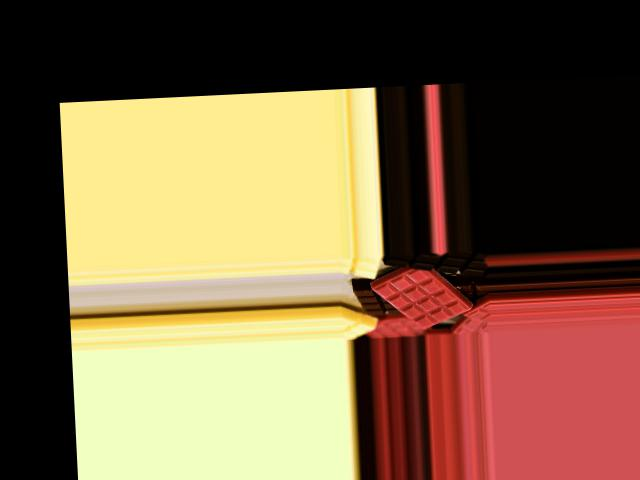chocolate: (370, 250, 474, 334)
